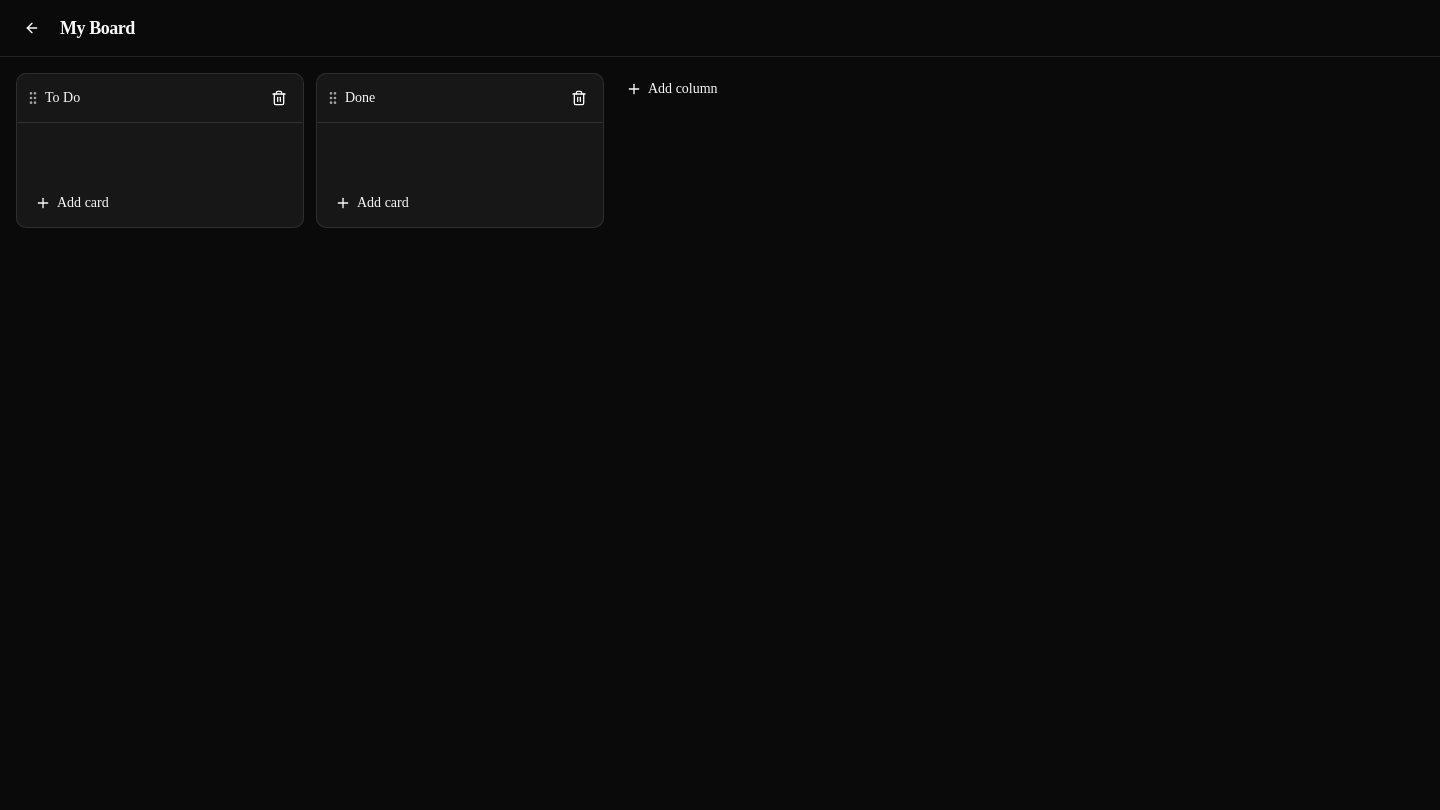
BoardCanvas › deletes a column after confirmation
The width and height of the screenshot is (1440, 810).
Step 1. Click the button named "Delete To Do" → (279, 98), box 263,82 -> 295,114
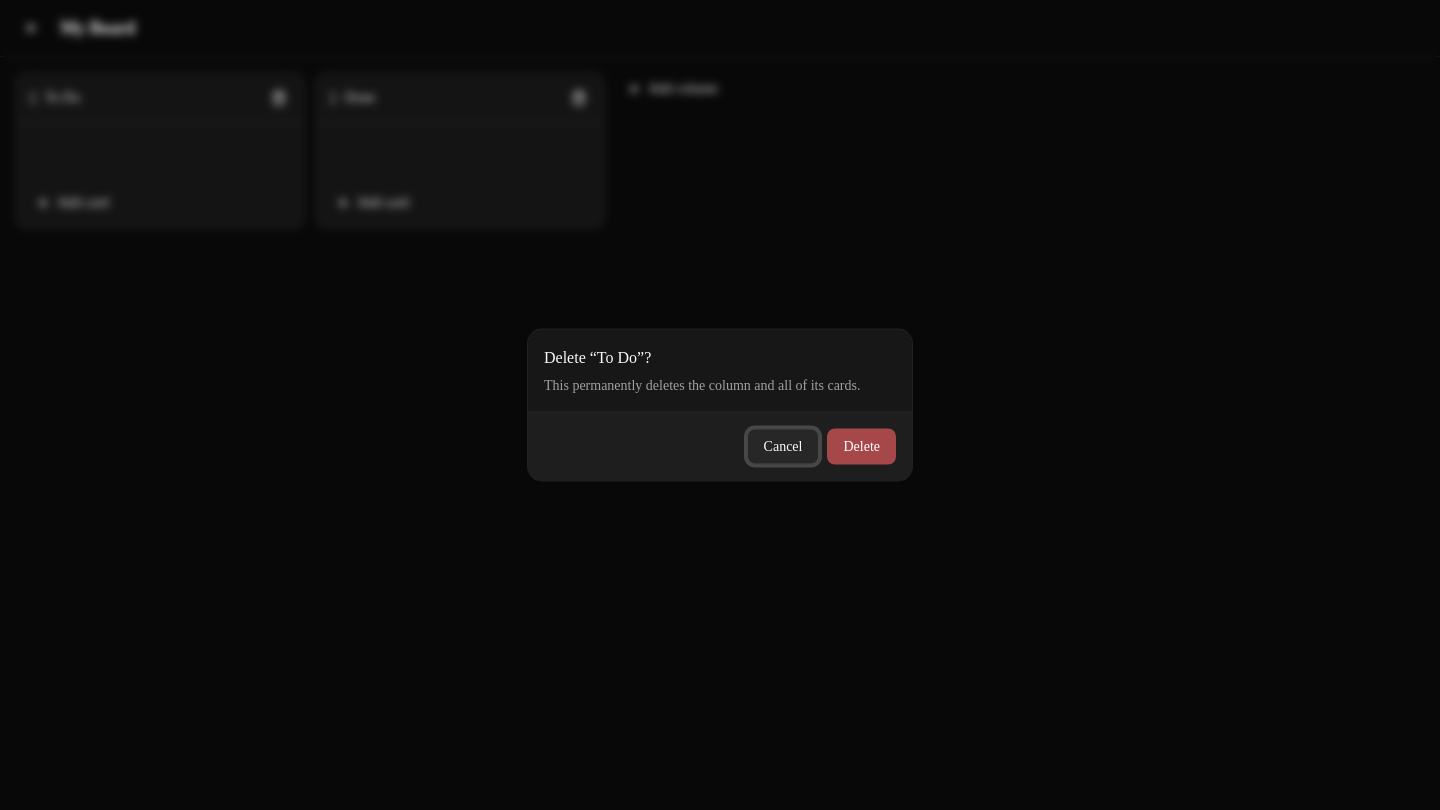
Step 2. Click the button "Delete" → (862, 446), box 828,428 -> 896,464
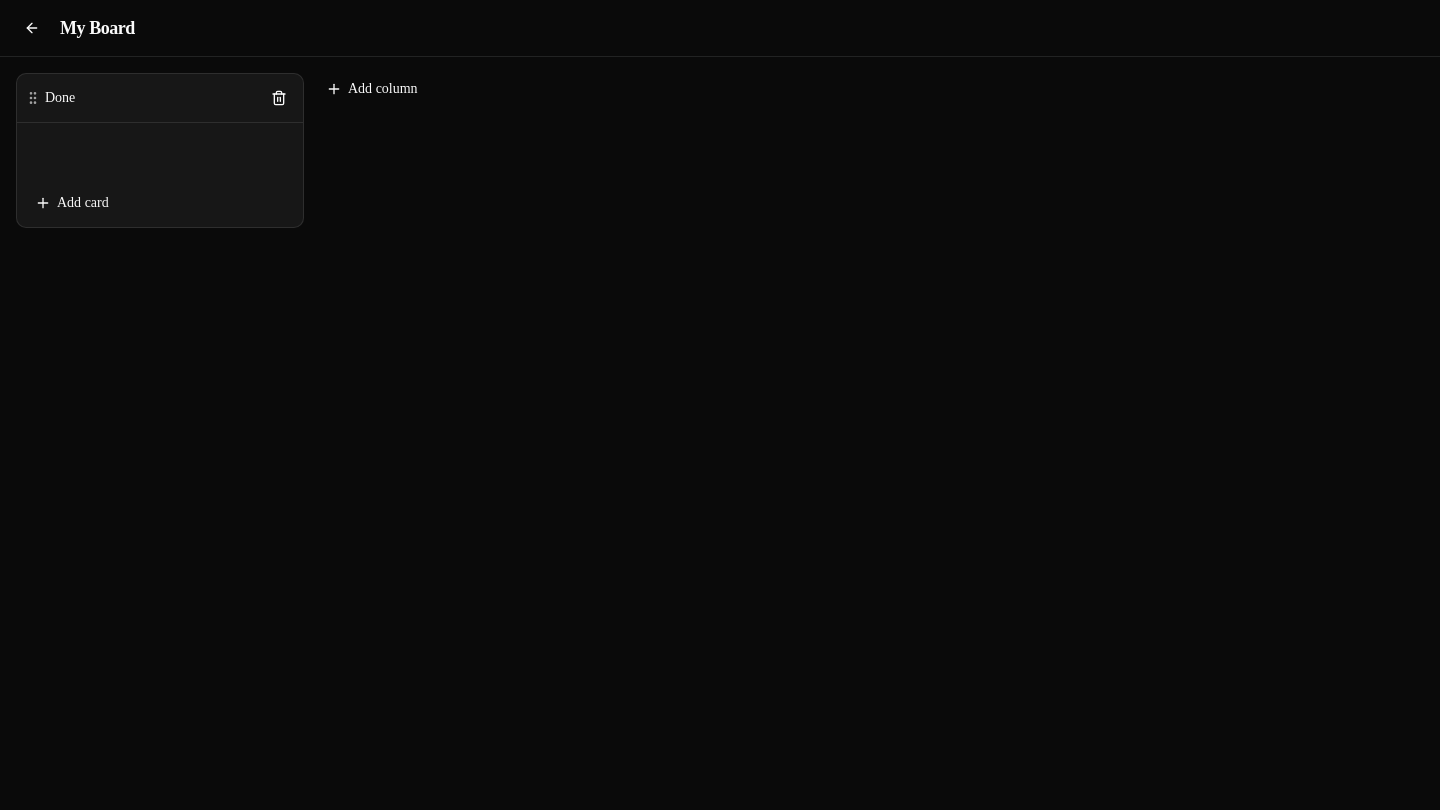
Expected: the button "Done" is shown, 45,88 -> 75,108
Expected: the button "To Do" is gone
